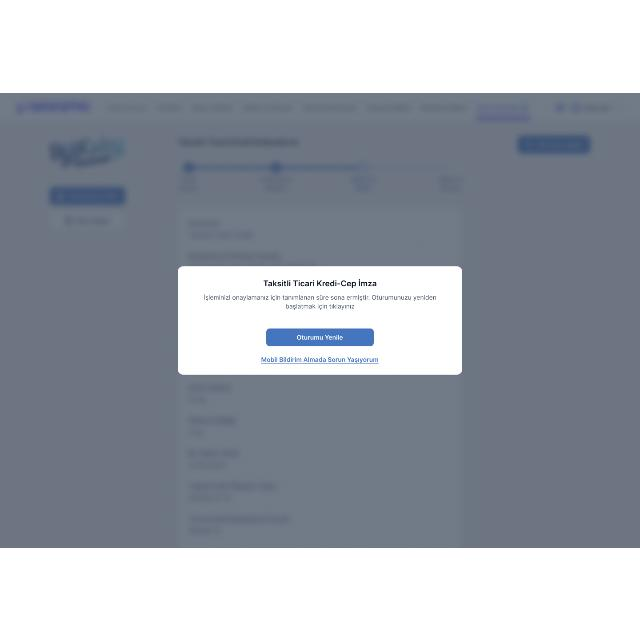QLabel: (200, 292, 434, 308), (258, 278, 378, 286), (260, 356, 380, 364), (292, 332, 344, 340)
VBtn: (266, 326, 374, 346)
VDialog: (179, 266, 463, 374)
